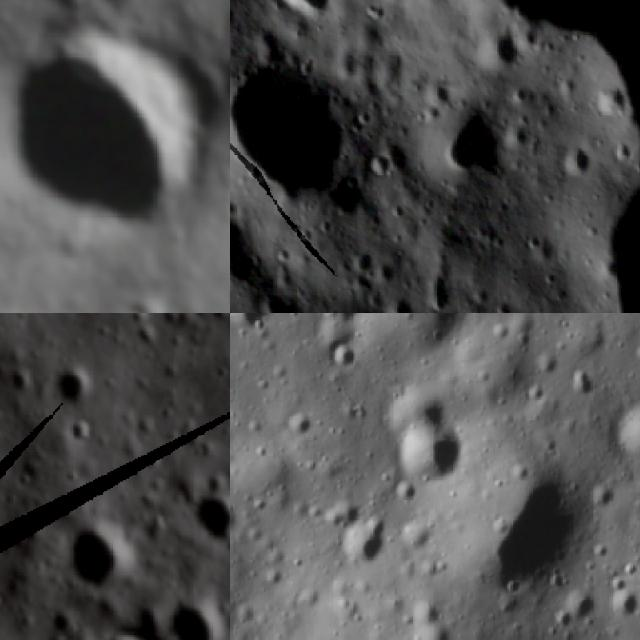crater: (0, 1, 230, 267), (230, 44, 360, 210), (463, 468, 599, 592), (418, 86, 523, 186), (61, 514, 140, 594), (389, 424, 470, 496), (378, 382, 448, 439), (478, 11, 534, 80), (395, 313, 489, 350), (181, 488, 230, 554), (339, 513, 391, 573), (159, 598, 228, 640), (586, 71, 638, 122), (608, 394, 640, 465), (409, 596, 460, 640), (546, 140, 595, 185), (513, 222, 564, 264), (50, 362, 96, 408), (560, 584, 604, 631), (320, 494, 362, 536), (280, 0, 334, 26), (460, 277, 497, 313), (604, 586, 640, 623), (61, 417, 100, 451), (288, 406, 322, 443), (565, 365, 597, 404), (328, 338, 361, 375), (10, 362, 42, 400), (340, 240, 378, 271), (230, 313, 276, 337), (40, 0, 89, 20), (310, 313, 376, 327), (82, 627, 153, 640), (610, 138, 640, 168), (387, 293, 421, 313), (204, 469, 225, 501), (376, 154, 398, 183), (258, 293, 289, 313), (230, 411, 242, 455), (495, 294, 519, 313), (219, 43, 230, 80)
